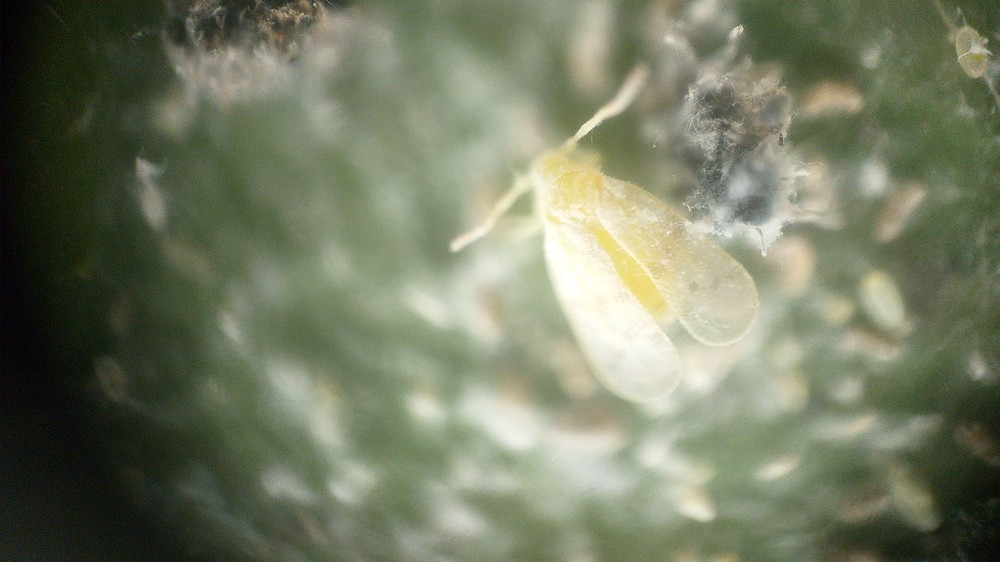Mosca Blanca: (427, 65, 797, 429)
